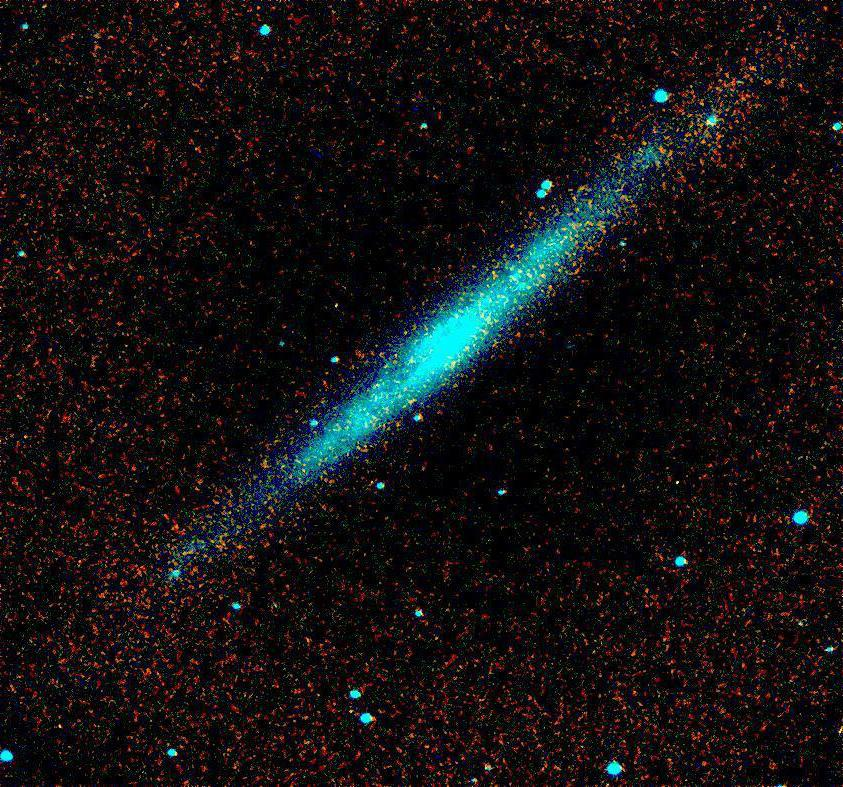star: (318, 293, 348, 323)
